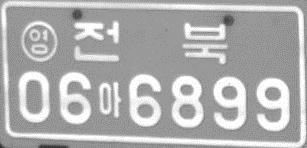0: (16, 70, 51, 123)
6: (127, 73, 162, 128), (57, 71, 92, 125)
8: (170, 74, 204, 128)
9: (255, 76, 291, 132), (212, 76, 247, 131)
아: (97, 80, 123, 119)
영: (20, 19, 58, 63)
전북_D: (71, 20, 228, 64)
